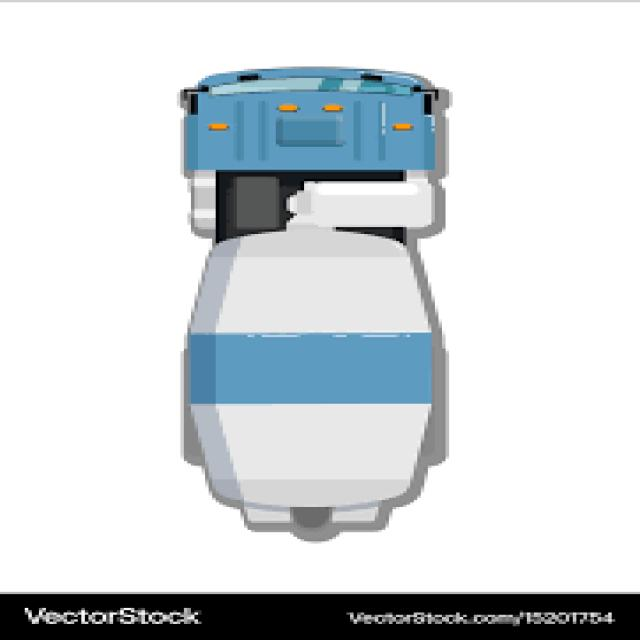truck: (173, 62, 445, 534)
